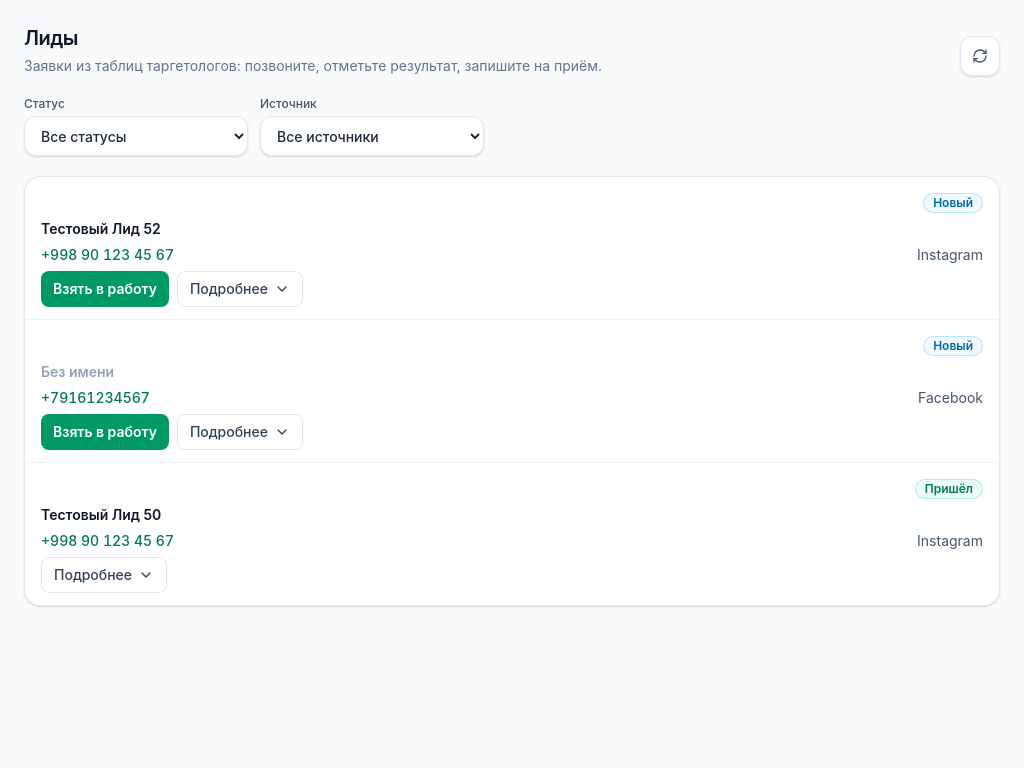
staff leads page › says «Лид уже взял коллега» and reloads the list on 409
Click the button "Взять в работу" below "Тестовый Лид 52" at (105, 289), box [41,271,169,307]
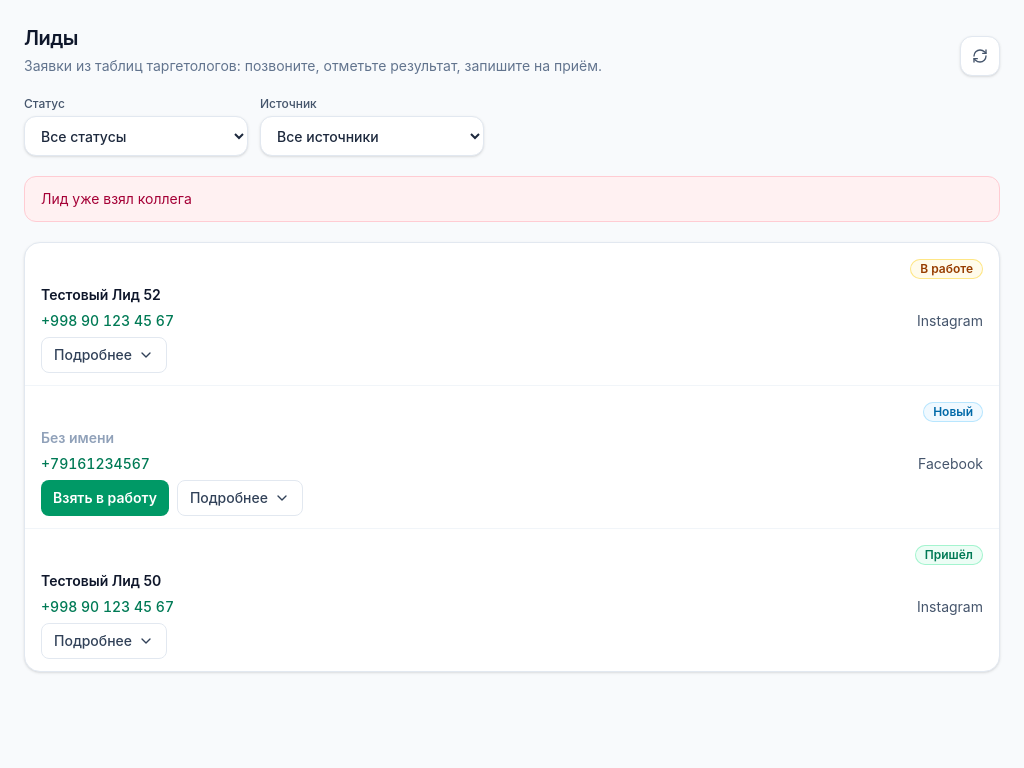
Expected: the message "Лид уже взял коллега" is shown, [24,176,1000,222]
